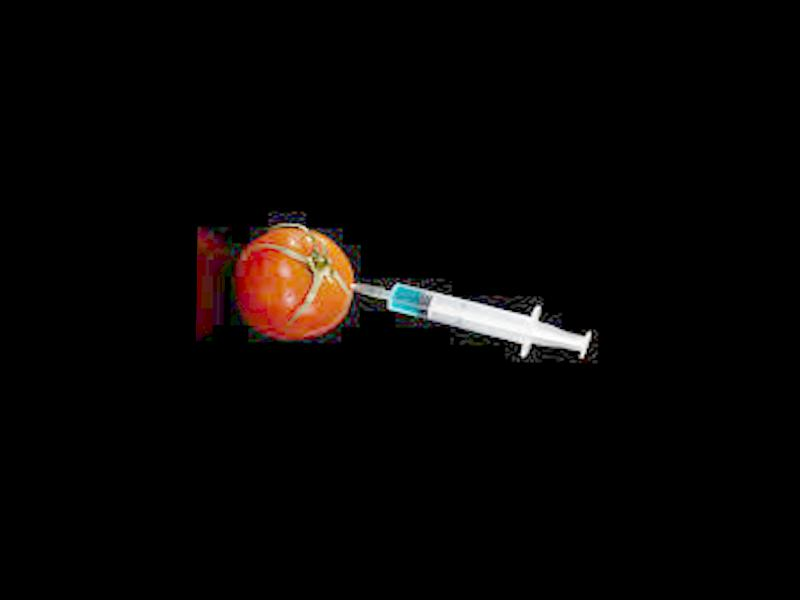Tomato: (239, 223, 355, 341)
